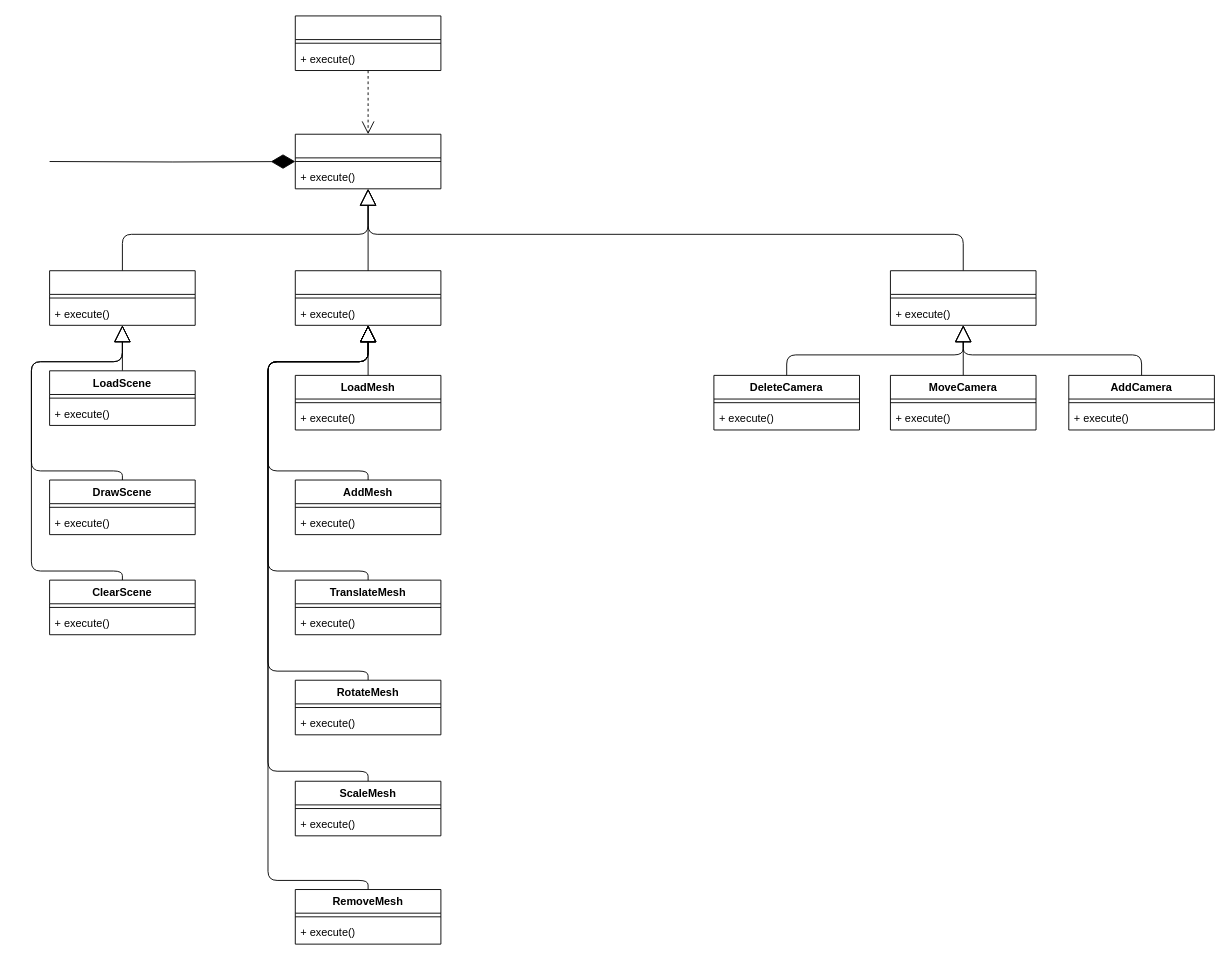
The diagram is 1230 pixels wide and 963 high, and some of its shapes have lost their labels. Here are the shapes that lost their labels. From the top down, the box of each, then its label:
(294, 15, 441, 71): Facade
(294, 133, 441, 189): BaseAction
(49, 270, 195, 325): SceneAction
(294, 270, 441, 325): MeshAction
(890, 270, 1036, 325): CameraAction
